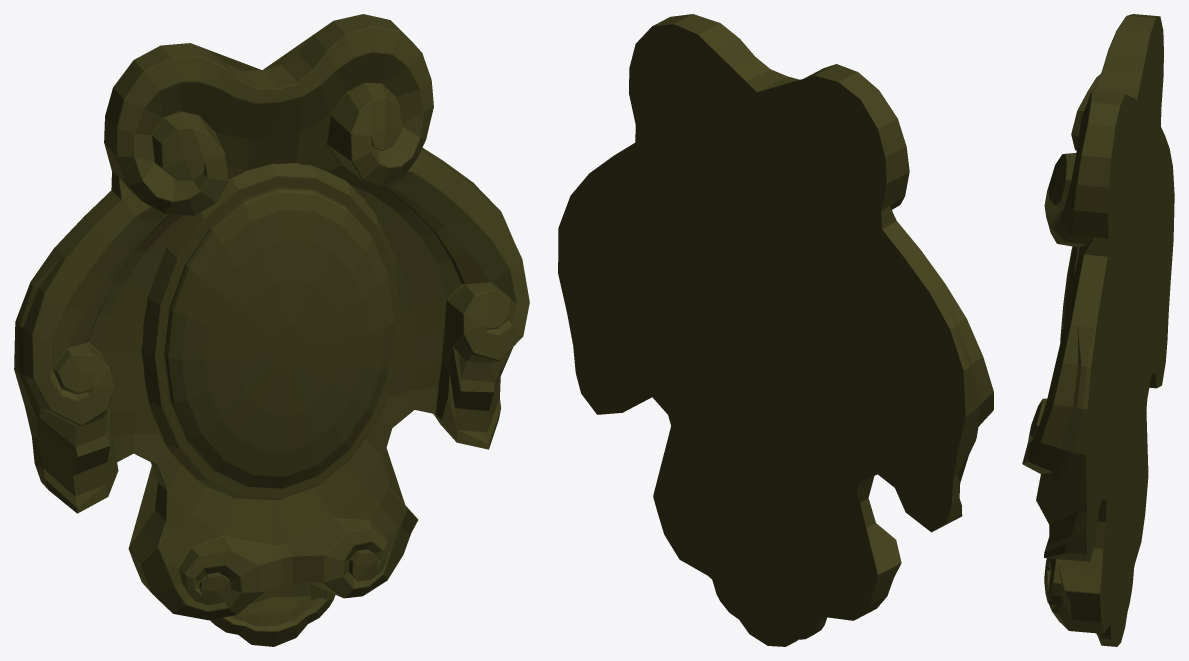
File: Ornament.fbx
The picture shows the model from 3 angles, left to right: view 1: azimuth 30°, elevation 25°; view 2: azimuth 150°, elevation 25°; view 3: azimuth 270°, elevation 25°; orthographic projection. The views are drawn at different scales.
Parts seen in each view (by area): view 1: polySurface7422; view 2: polySurface7422; view 3: polySurface7422.
Boxes of the visible parts, bbox=[...] form: polySurface7422: bbox=[14, 14, 529, 646]; polySurface7422: bbox=[558, 14, 993, 646]; polySurface7422: bbox=[1022, 14, 1174, 646].
Bounding box in the file's own units: 140 × 176 × 41.66.
